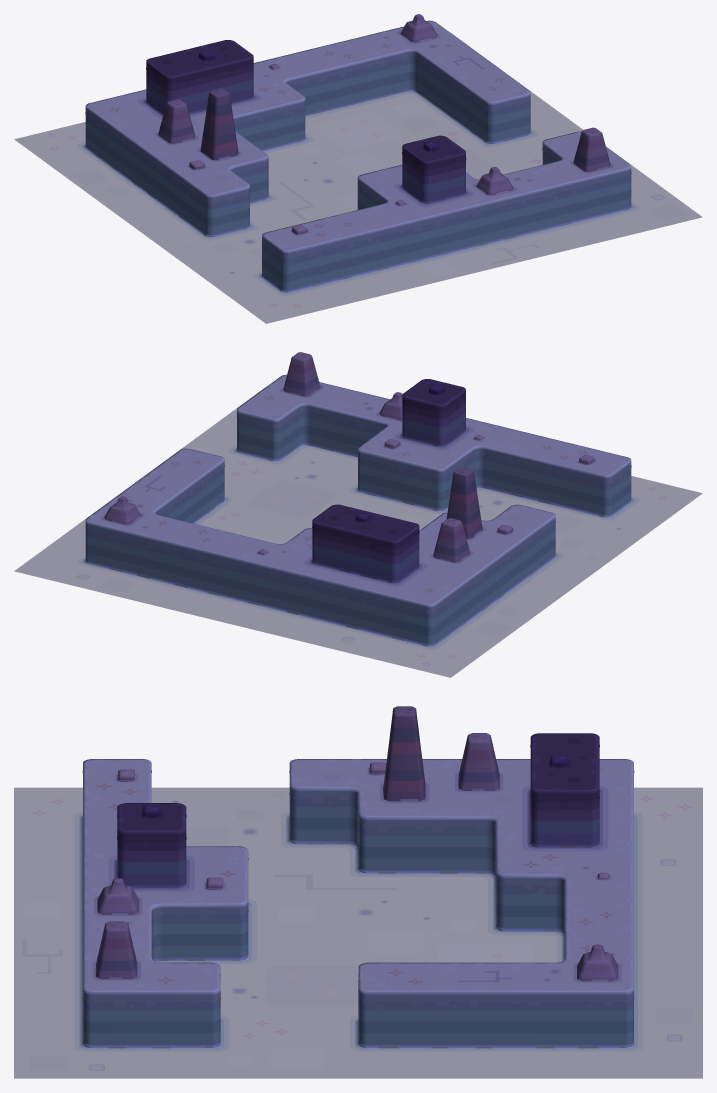
Rendered from C_cave1_03.fbx.
3 renders of one model, top to bottom at view 1: azimuth 30°, elevation 25°; view 2: azimuth 150°, elevation 25°; view 3: azimuth 270°, elevation 25°, orthographic. The views are drawn at different scales.
Visible parts, largest first — view 1: C_cave1_03; view 2: C_cave1_03; view 3: C_cave1_03.
Part boxes in pixels (x1,y1,x2,y2): C_cave1_03: (14, 14, 702, 323); C_cave1_03: (14, 352, 702, 677); C_cave1_03: (14, 706, 702, 1078).
Size of the model in its own units: 50 by 11.34 by 50.
Materials: 1 (1 with a texture image).
